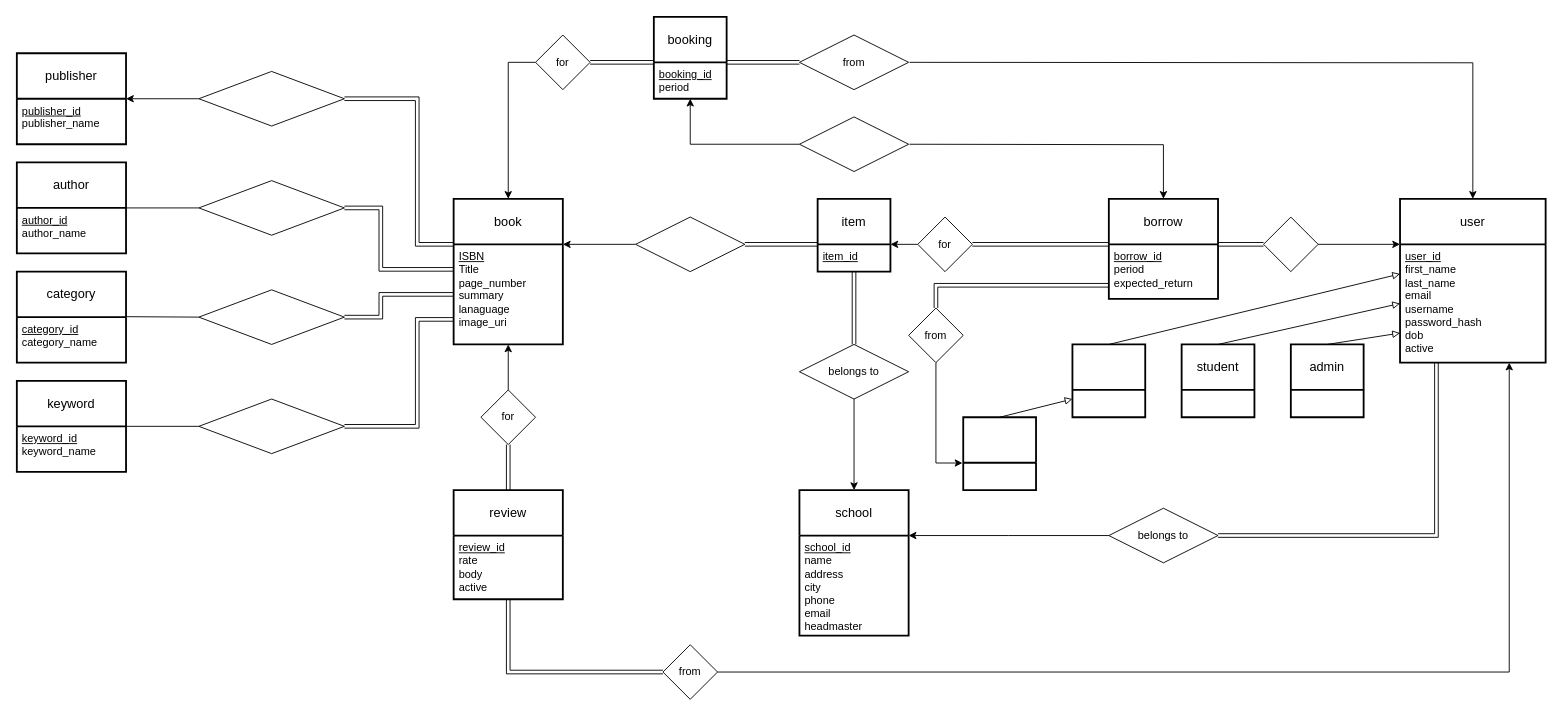
The diagram is 1562 pixels wide and 715 high, and some of its shapes have lost their labels. Each missing label, with the centre of its shape:
"book_author" goes at (271,207).
"book_category" goes at (271,316).
"book_keyword" goes at (271,426).
"book_publisher" goes at (271,98).
"is of type" goes at (690,244).
"lib_user" goes at (999,453).
"resulted to" goes at (854,144).
"teacher" goes at (1108,380).
"to" goes at (1290,244).
